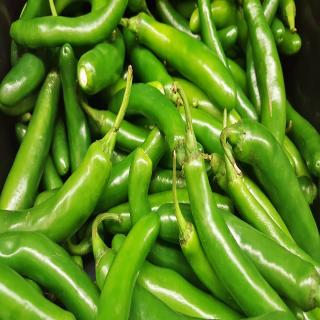Cabai Hijau: (1, 4, 320, 320)
